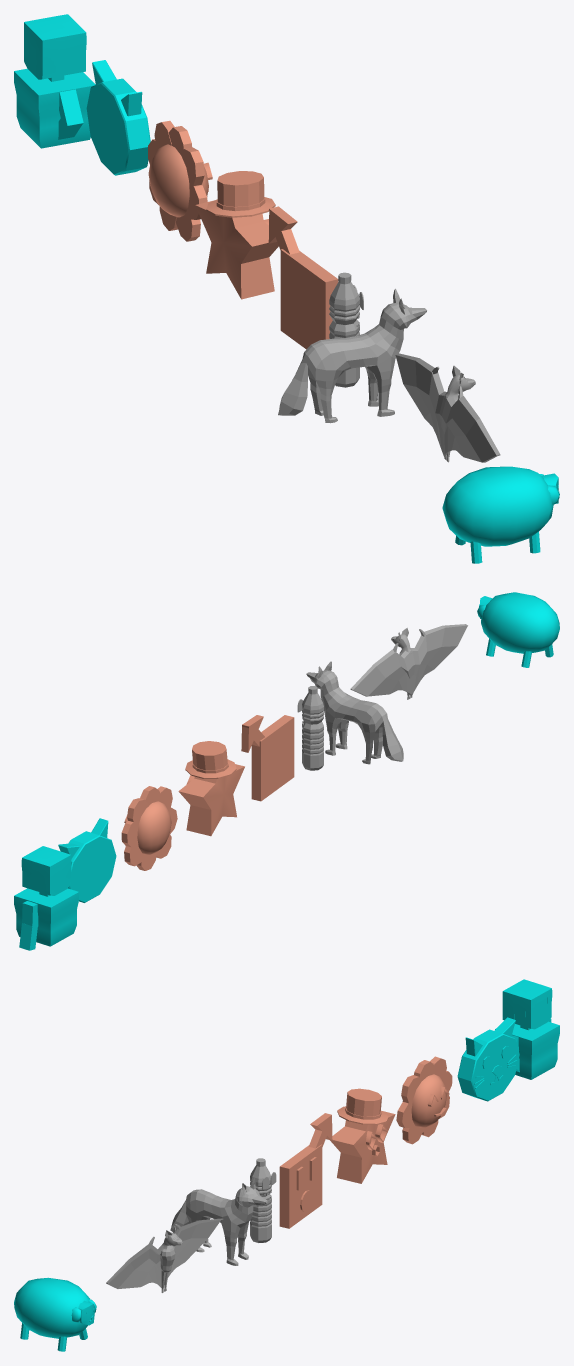
File: Characters.fbx
The picture shows the model from 3 angles, top to bottom: view 1: azimuth 30°, elevation 25°; view 2: azimuth 150°, elevation 25°; view 3: azimuth 330°, elevation 25°; orthographic projection. The views are drawn at different scales.
Parts seen in each view (by area): view 1: human, sheep, Fox, Star_customer1, Bat, Marketing_customer1, Flower_customer1, cat, Bottle; view 2: human, sheep, Bat, Star_customer1, Fox, Flower_customer1, Marketing_customer1, cat, Bottle; view 3: sheep, human, Star_customer1, cat, Bat, Marketing_customer1, Flower_customer1, Fox, Bottle.
Part boxes in pixels (x1,y1,x2,y2): human: (14,14,95,148); sheep: (442,466,559,563); Fox: (278,288,426,423); Star_customer1: (195,171,278,299); Bat: (395,353,500,462); Marketing_customer1: (268,206,338,349); Flower_customer1: (148,120,212,241); cat: (86,60,150,175); Bottle: (329,272,363,387); human: (14,846,78,950); sheep: (477,592,559,667); Bat: (350,624,467,699); Star_customer1: (178,741,244,836); Fox: (306,661,403,764); Flower_customer1: (121,786,177,870); Marketing_customer1: (241,715,294,801); cat: (58,818,116,902); Bottle: (297,686,323,770); sheep: (14,1277,96,1351); human: (495,979,559,1079); Star_customer1: (330,1088,395,1183); cat: (457,1017,519,1101); Bat: (106,1218,223,1292); Marketing_customer1: (279,1113,332,1228); Flower_customer1: (396,1056,452,1144); Fox: (170,1178,267,1265); Bottle: (250,1158,276,1242).
Bounding box in the file's own units: 1.89 × 1.18 × 10.77.
